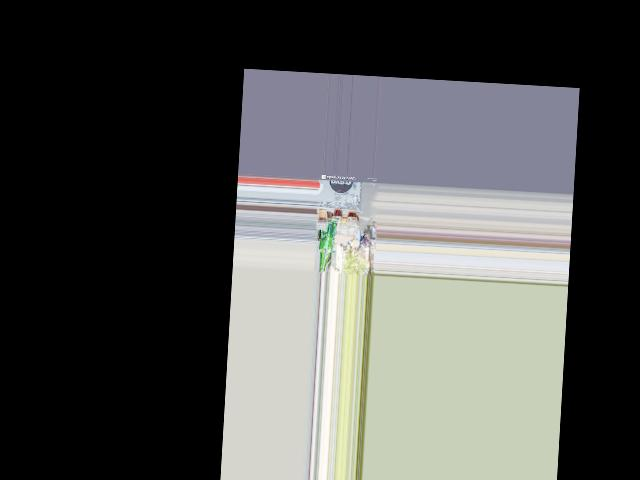beer: (317, 214, 338, 272)
